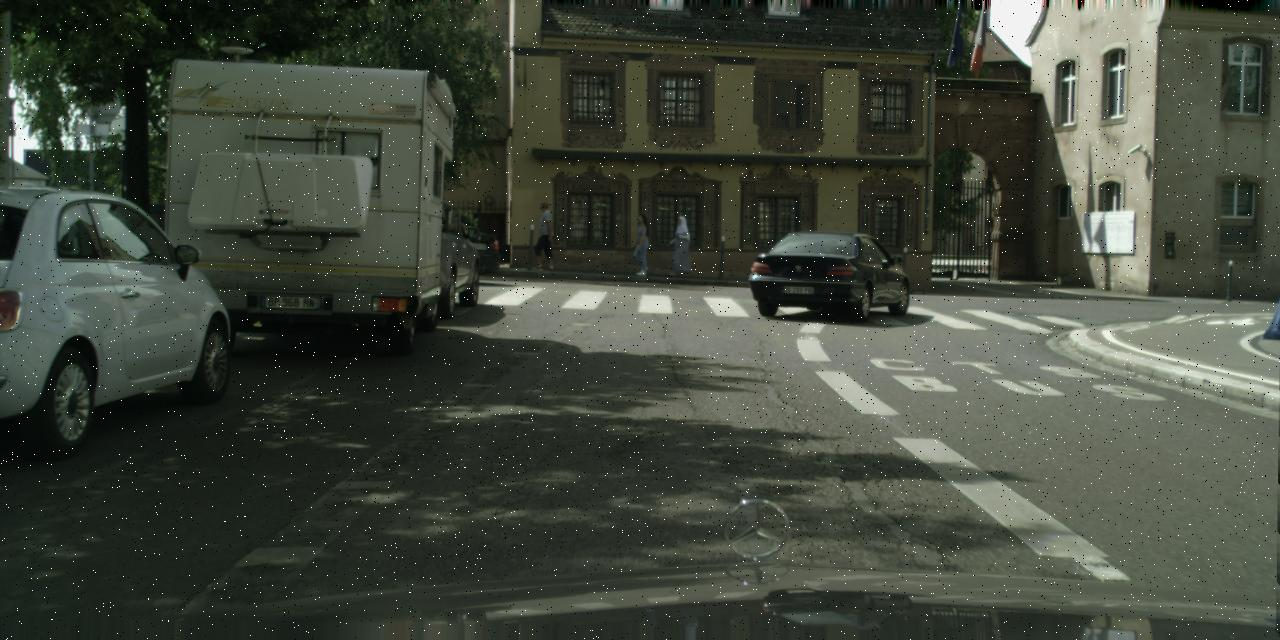ped: (532, 201, 560, 270), (630, 212, 654, 274), (668, 216, 693, 275)
